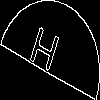H: (25, 25, 61, 82)
